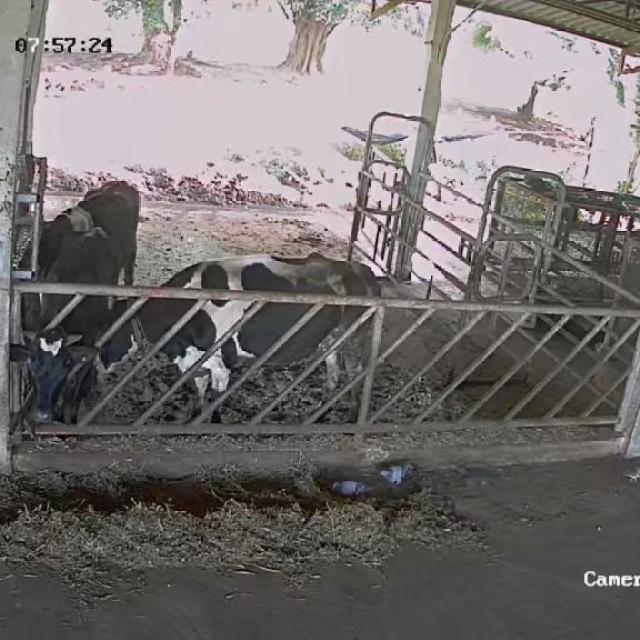feeding: (94, 249, 382, 427), (11, 227, 125, 432)
standing: (20, 180, 142, 293)
